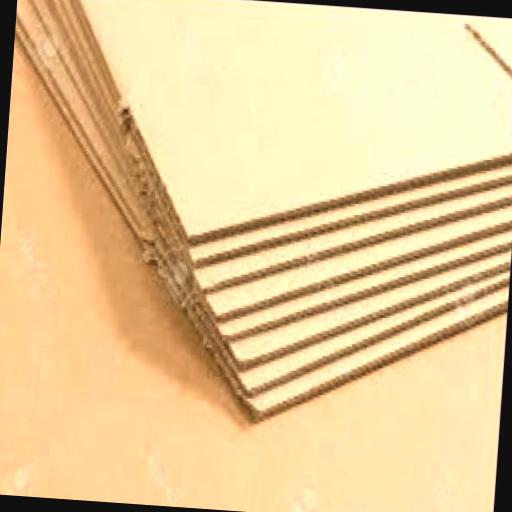cardboard: (0, 0, 512, 434), (3, 0, 512, 259)
